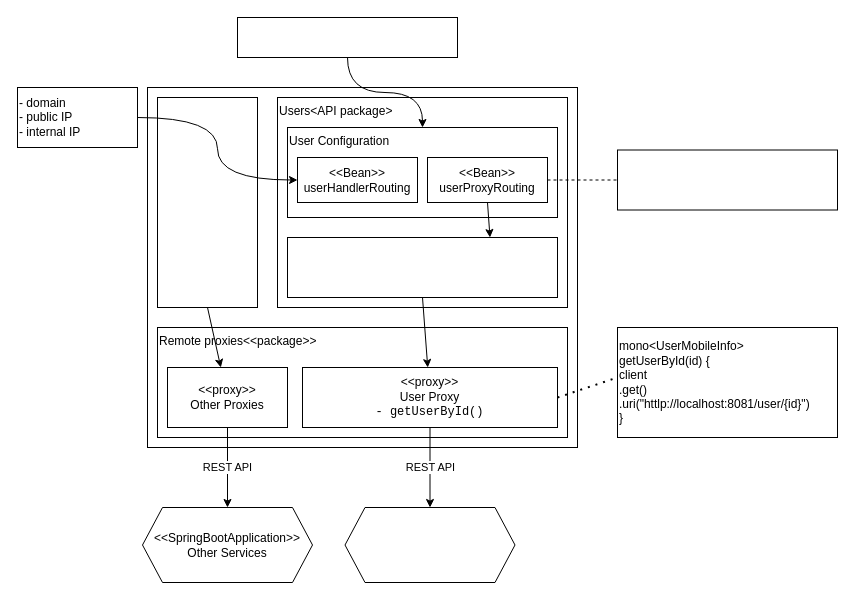
The diagram is 855 pixels wide and 600 high, and some of its shapes have lost their labels. Each missing label, with the centre of its shape:
<<SpringBootApplication>> User Service: the point at 429,544
GET/public/api/mobile/v1/users/{id}: the point at 727,179
OmGatewayApplication: the point at 347,37
Other Packages: the point at 207,202
User Handlers - getUserById(): the point at 422,267
